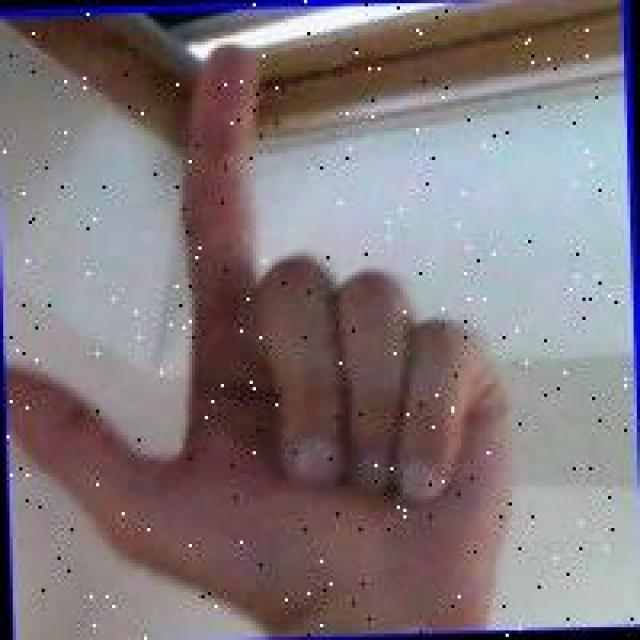L: (0, 29, 522, 640)
